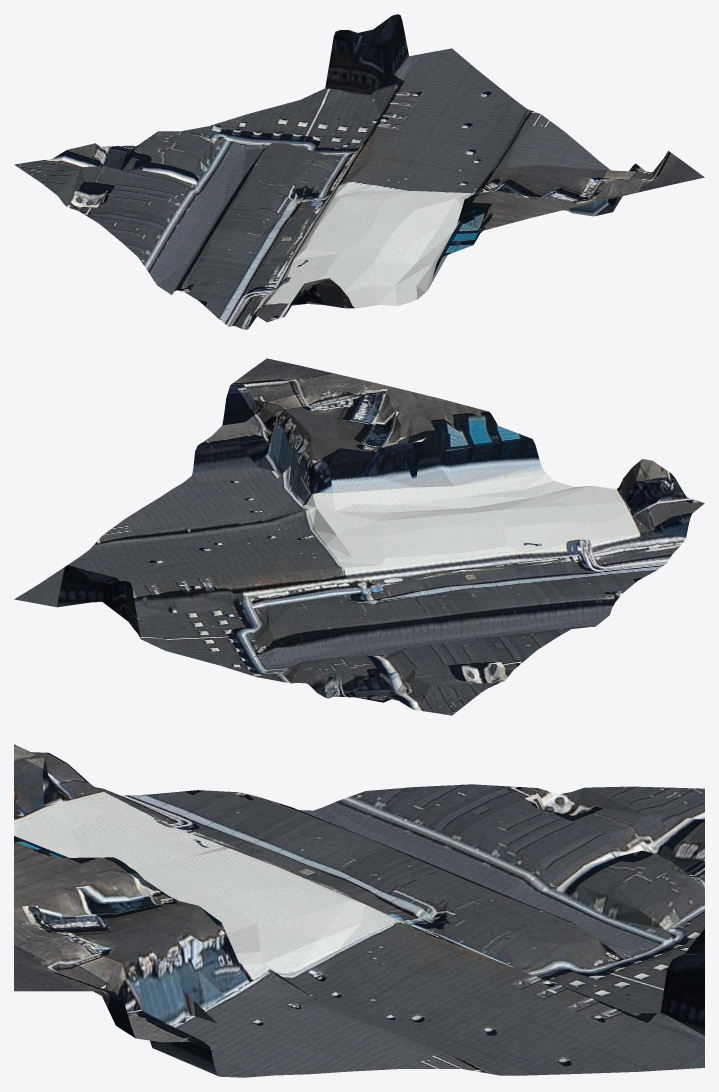
File: map_15_8183_13783.dae
3 renders of one model, top to bottom at view 1: azimuth 30°, elevation 25°; view 2: azimuth 150°, elevation 25°; view 3: azimuth 270°, elevation 25°, orthographic. The views are drawn at different scales.
Parts seen in each view (by area): view 1: Ter0; view 2: Ter0; view 3: Ter0.
Boxes of the visible parts, left/top/right/bottom form: Ter0: left=14, top=14, right=704, bottom=329; Ter0: left=14, top=358, right=704, bottom=715; Ter0: left=14, top=744, right=704, bottom=1077.
Size of the model in its own units: 63.87 by 63.88 by 11.91.
Materials: 2 (2 with a texture image).
